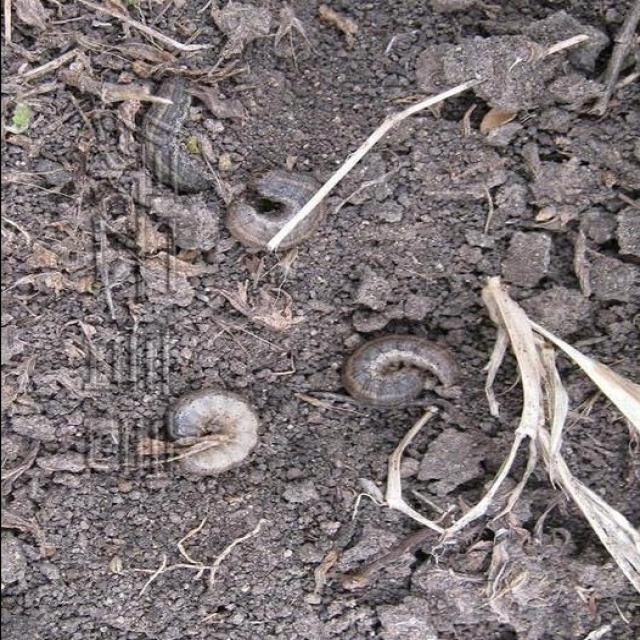black cutworm: (166, 387, 268, 496), (225, 168, 332, 262), (336, 336, 457, 411), (149, 70, 201, 207)
